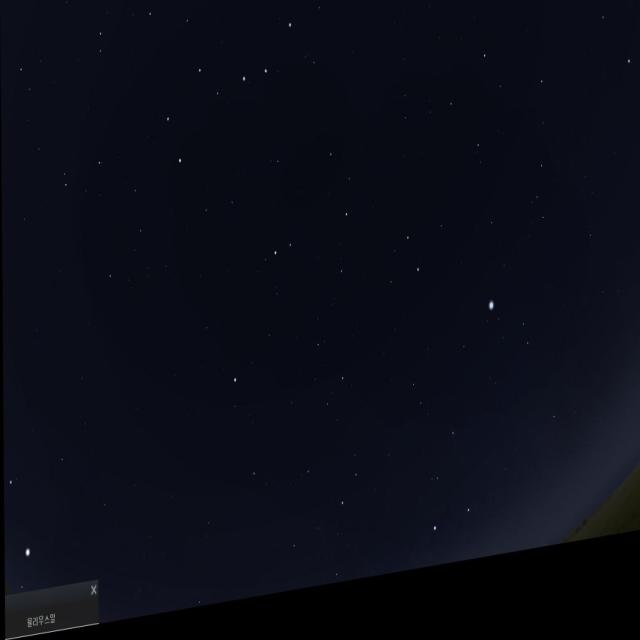lyra: (484, 303, 536, 398)
ursa_major: (162, 14, 295, 190)
